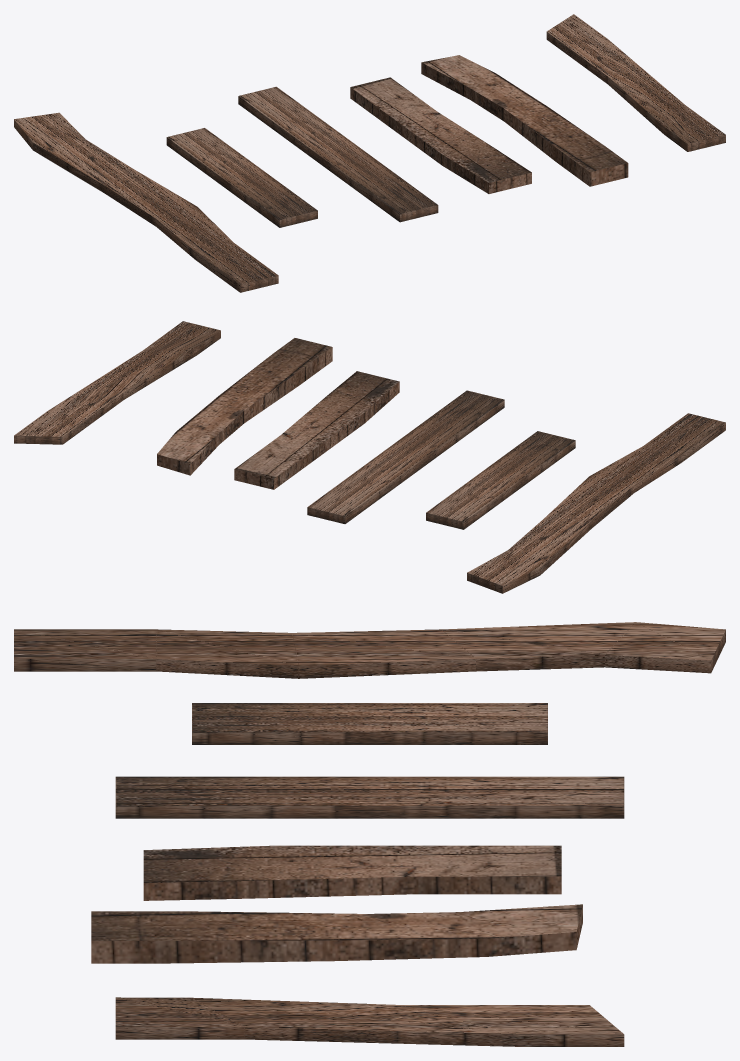
File: Wooden Tables_FBX.fbx
The picture shows the model from 3 angles, top to bottom: view 1: azimuth 30°, elevation 25°; view 2: azimuth 150°, elevation 25°; view 3: azimuth 270°, elevation 25°; orthographic projection. The views are drawn at different scales.
Visible parts, largest first — view 1: PMLD 1, PMMD 1, PML 1, PMCD 2, PMCD 1, PMC 1; view 2: PMLD 1, PMMD 1, PML 1, PMCD 2, PMCD 1, PMC 1; view 3: PMLD 1, PMMD 1, PML 1, PMCD 2, PMCD 1, PMC 1.
Part boxes in pixels (x1,y1,x2,y2): PMLD 1: (14,112,278,292); PMMD 1: (421,55,628,186); PML 1: (238,86,438,222); PMCD 2: (350,77,531,193); PMCD 1: (546,14,725,151); PMC 1: (166,128,317,227); PMLD 1: (467,413,725,593); PMMD 1: (157,338,332,475); PML 1: (307,390,504,523); PMCD 2: (234,371,399,489); PMCD 1: (14,321,220,444); PMC 1: (426,431,575,529); PMLD 1: (14,622,725,678); PMMD 1: (91,904,582,963); PML 1: (115,776,624,818); PMCD 2: (143,845,561,900); PMCD 1: (115,997,624,1046); PMC 1: (192,703,547,744).
Size of the model in its own units: 560 by 14.4 by 409.
